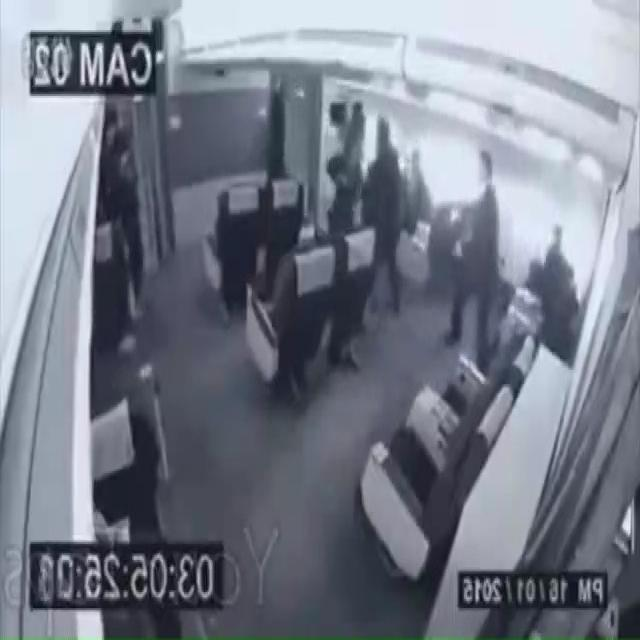fight: (291, 102, 433, 304)
